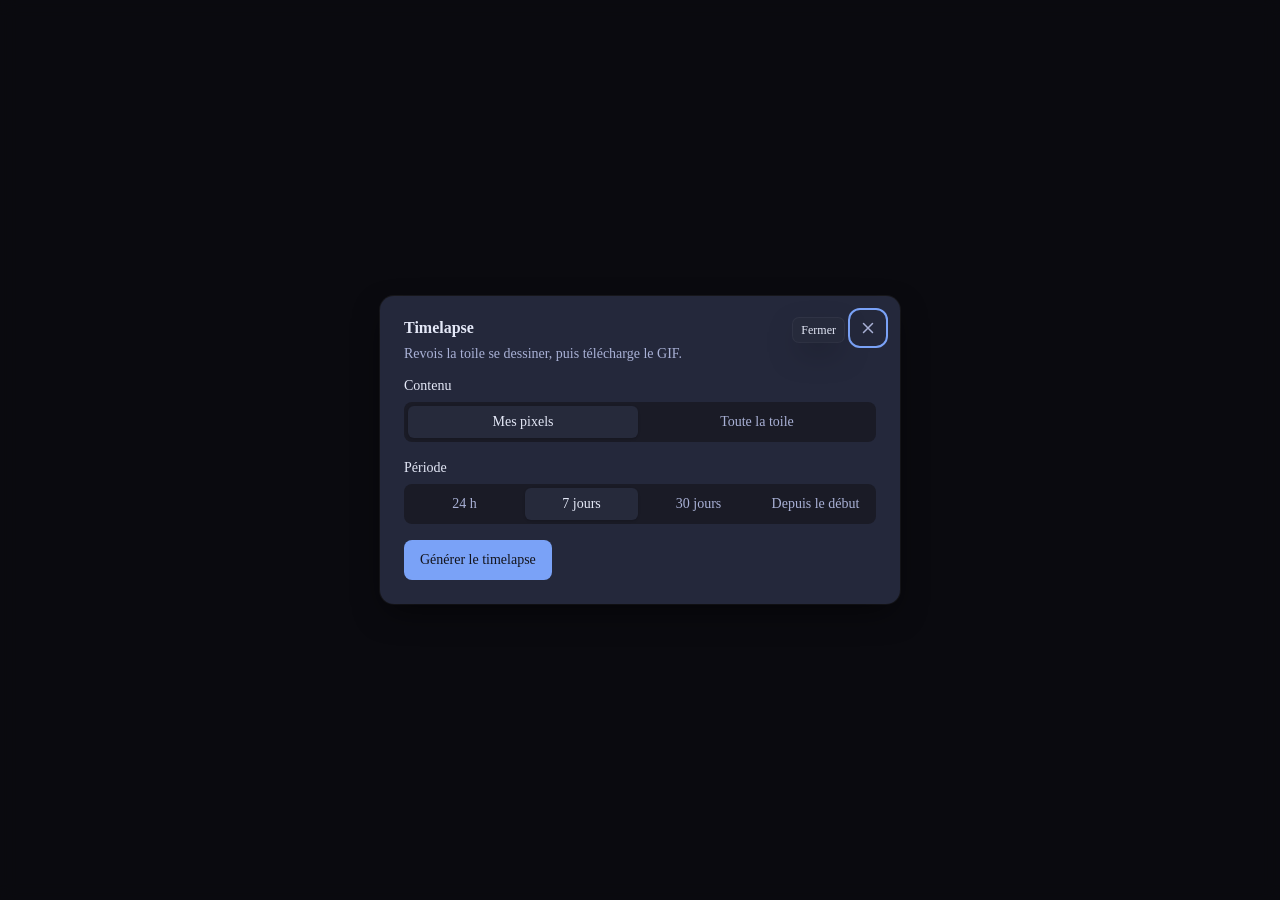
Test: <TimelapseDialog /> › un refus 403 resynchronise la progression
This screenshot has width=1280, height=900.
What coordinates should you click on to do the following:
click the button "Générer le timelapse"
I would click on:
 (478, 560)
Its box is x1=404 y1=540 x2=552 y2=580.
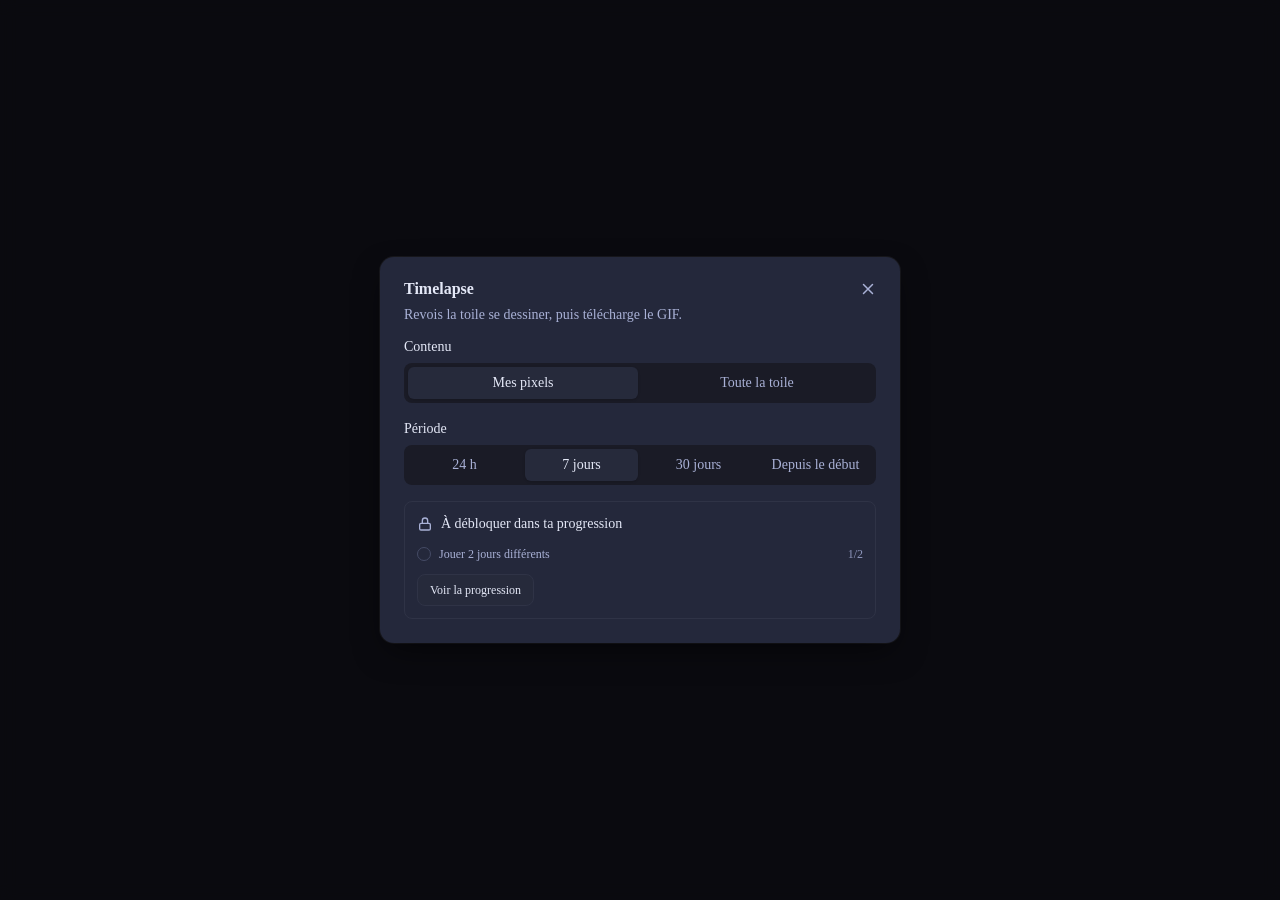
Result: the element "À débloquer" is shown at x1=404 y1=501 x2=876 y2=619
